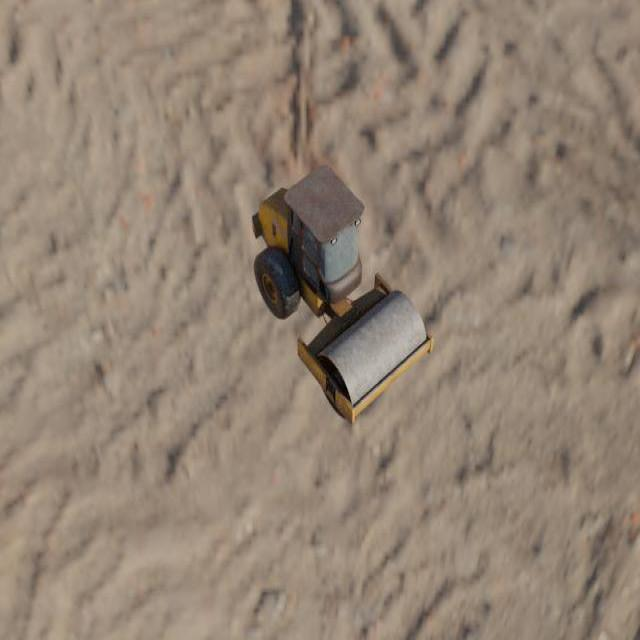Roller: (251, 164, 434, 424)
